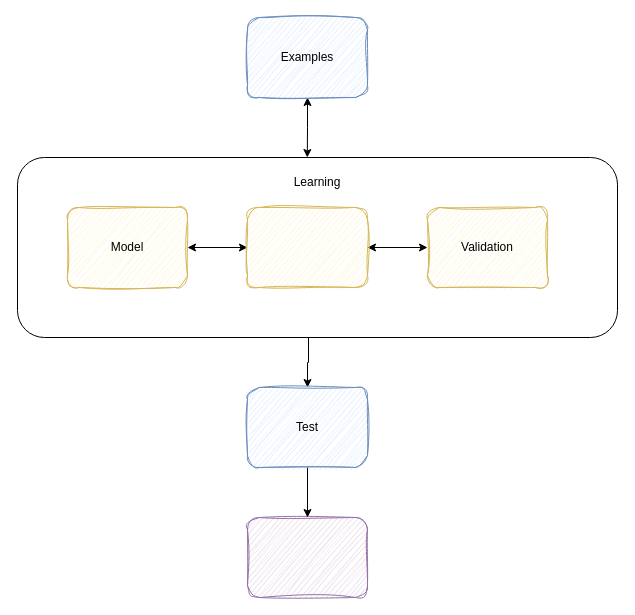
The diagram is 635 pixels wide and 615 high, and some of its shapes have lost their labels. Here are the shapes that lost their labels. From the top down, the box of each, then its label:
(246, 206, 368, 288): Training
(246, 516, 368, 598): Live
